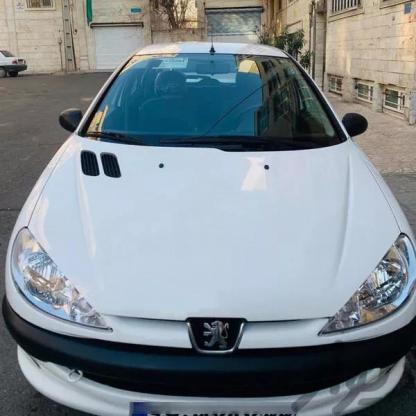Car: (12, 37, 416, 416), (0, 29, 23, 75)
